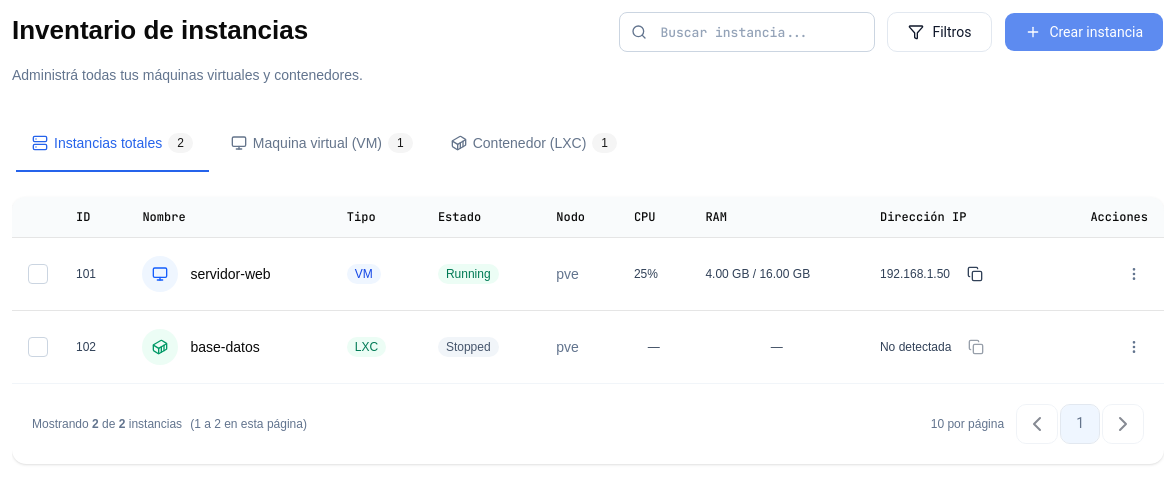
Scenario: Accesibilidad de las acciones de instancia › nombra cada acción con aria-label canónico y no expone el atributo arial-label
Expected: the row that starts with "servidor-web" is shown, [12,237,1164,310]
Click the button named "Acciones para servidor-web". click: (1134,274)
box: [1120,260,1148,288]
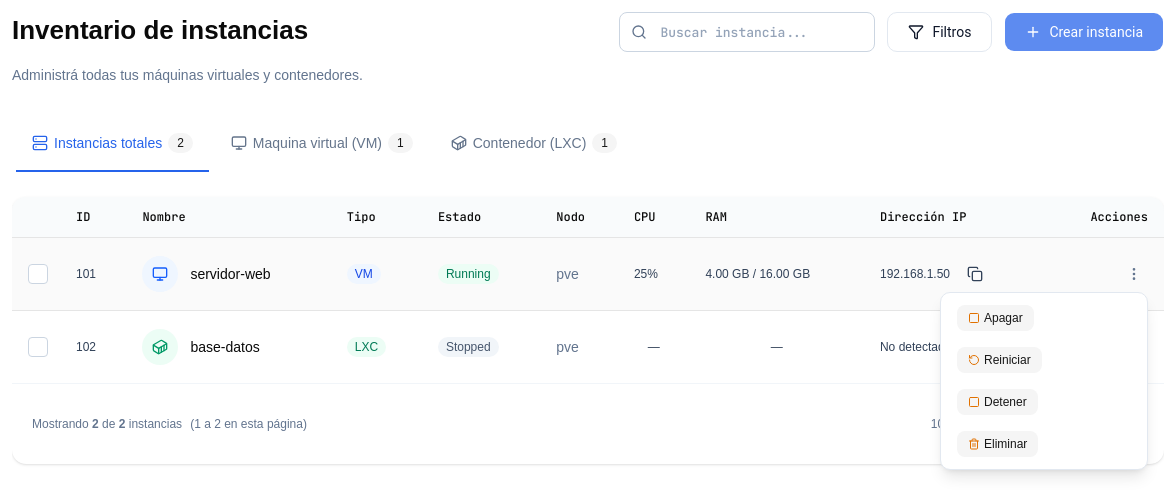
Expected: the menu item "Apagar" is shown, [941,297,1147,339]
Expected: the menu item "Reiniciar" is shown, [941,339,1147,381]
Expected: the menu item "Detener" is shown, [941,381,1147,423]
